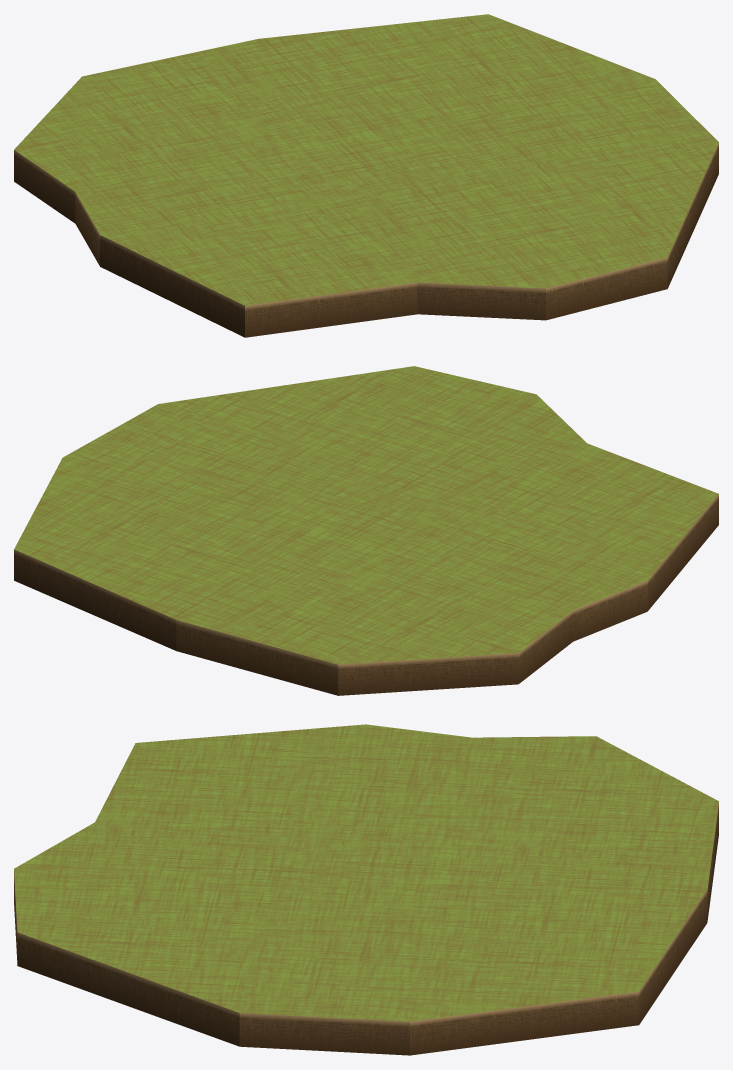
File: Terrain01_E.FBX
3 views of the same model, one above another, from view 1: azimuth 30°, elevation 25°; view 2: azimuth 150°, elevation 25°; view 3: azimuth 270°, elevation 25° (orthographic). The views are drawn at different scales.
Parts seen in each view (by area): view 1: Terrain01_E; view 2: Terrain01_E; view 3: Terrain01_E.
Boxes of the visible parts, x1=… form: Terrain01_E: x1=14, y1=14, x2=718, y2=337; Terrain01_E: x1=14, y1=366, x2=718, y2=695; Terrain01_E: x1=14, y1=724, x2=718, y2=1055.
Bounding box in the file's own units: 950 × 50.17 × 951.
Materials: 1 (1 with a texture image).
